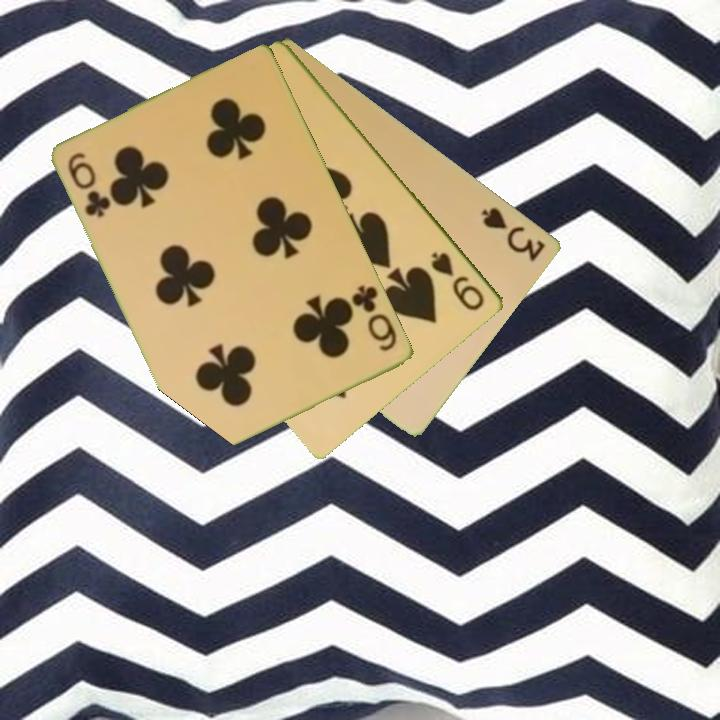3s: (478, 203, 549, 265)
6c: (348, 281, 401, 355), (64, 149, 114, 220)
9s: (428, 248, 488, 314)
